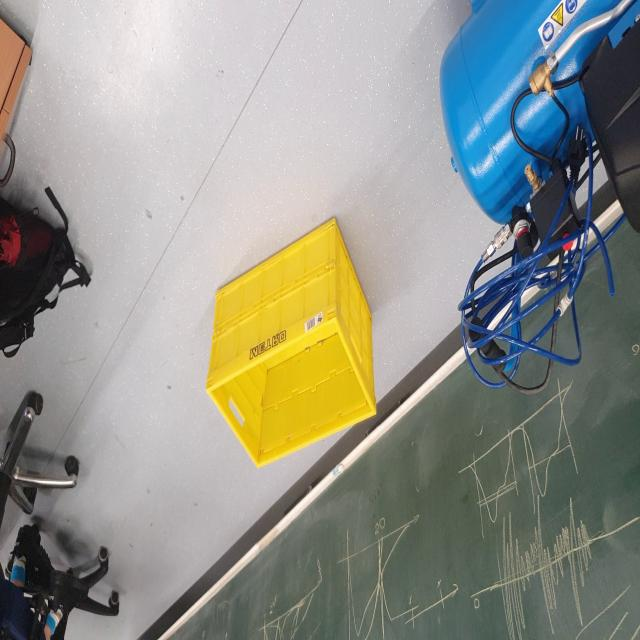box: (200, 204, 382, 474)
